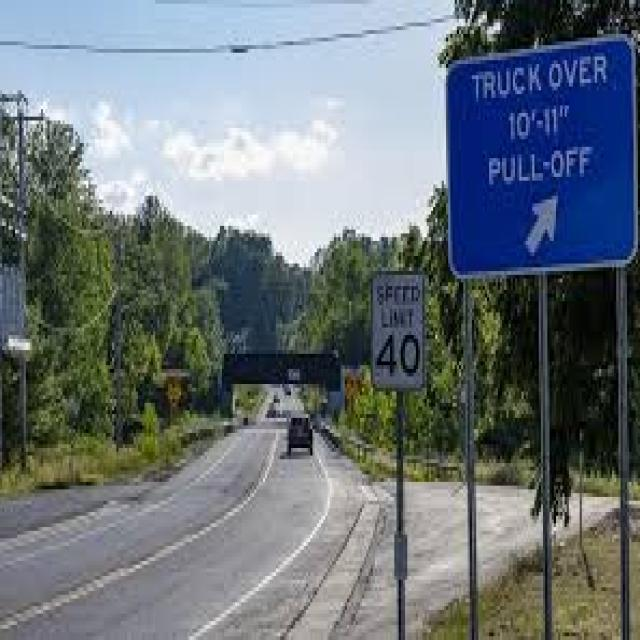speedLimit40: (370, 271, 424, 384)
